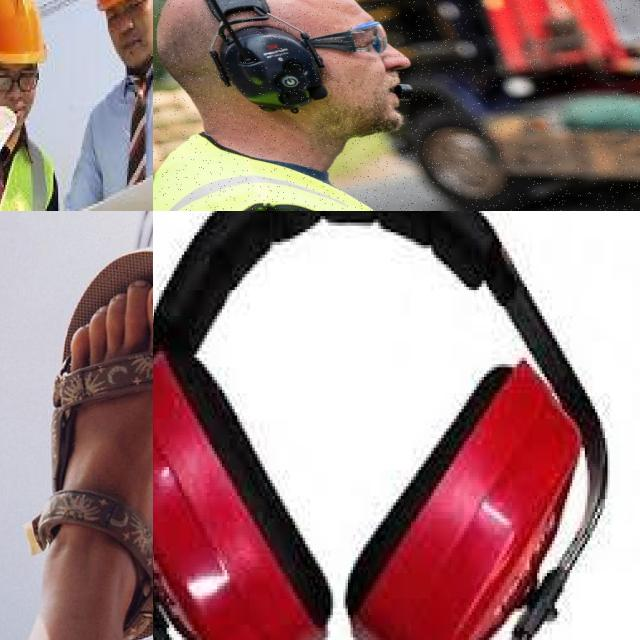Ear-protection: (153, 212, 609, 635)
No_Ear-Protection: (218, 26, 326, 113)
Sandals: (31, 247, 153, 638)
face_nomask: (311, 48, 412, 136), (102, 0, 153, 68), (0, 56, 39, 134)
glasses: (309, 22, 388, 54), (0, 67, 42, 98)
head_helmet: (0, 0, 47, 61)
person: (77, 0, 153, 211), (0, 0, 50, 211)
